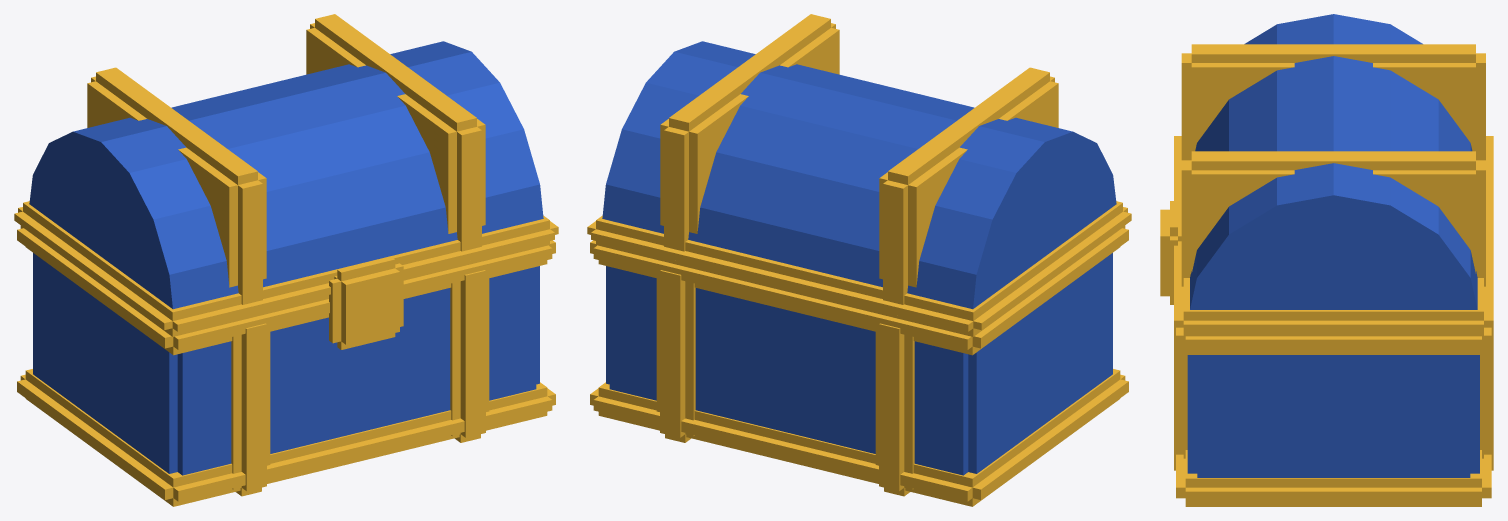
File: gacha-chest-v2.glb
The picture shows the model from 3 angles, left to right: view 1: azimuth 30°, elevation 25°; view 2: azimuth 150°, elevation 25°; view 3: azimuth 270°, elevation 25°; orthographic projection.
Visible parts, largest first — view 1: Chest_Lid, Chest_Body, Chest_BaseRim, Lid_Rim, Lid_TopArchR, Lid_TopArchL, Chest_MidRim, Chest_StrapR, Chest_StrapL, Chest_LockPlate; view 2: Chest_Lid, Chest_Body, Lid_Rim, Chest_BaseRim, Lid_TopArchL, Lid_TopArchR, Chest_MidRim, Chest_StrapR, Chest_StrapL; view 3: Chest_Lid, Chest_Body, Lid_TopArchR, Lid_TopArchL, Lid_Rim, Chest_BaseRim, Chest_MidRim, Chest_StrapR, Chest_LockPlate.
Boxes of the visible parts, left/top/right/bottom form: Chest_Lid: left=29, top=41, right=543, bottom=309; Chest_Body: left=33, top=253, right=539, bottom=475; Chest_BaseRim: left=17, top=369, right=555, bottom=506; Lid_Rim: left=14, top=201, right=558, bottom=336; Lid_TopArchR: left=306, top=14, right=485, bottom=251; Lid_TopArchL: left=87, top=67, right=266, bottom=304; Chest_MidRim: left=17, top=225, right=555, bottom=355; Chest_StrapR: left=450, top=258, right=489, bottom=442; Chest_StrapL: left=231, top=312, right=270, bottom=496; Chest_LockPlate: left=329, top=256, right=403, bottom=349; Chest_Lid: left=602, top=41, right=1116, bottom=309; Chest_Body: left=606, top=253, right=1112, bottom=475; Lid_Rim: left=587, top=201, right=1131, bottom=336; Chest_BaseRim: left=590, top=369, right=1128, bottom=506; Lid_TopArchL: left=879, top=67, right=1058, bottom=304; Lid_TopArchR: left=660, top=14, right=839, bottom=251; Chest_MidRim: left=590, top=225, right=1128, bottom=355; Chest_StrapR: left=656, top=258, right=695, bottom=442; Chest_StrapL: left=875, top=312, right=914, bottom=496; Chest_Lid: left=1190, top=14, right=1477, bottom=309; Chest_Body: left=1187, top=355, right=1479, bottom=477; Lid_TopArchR: left=1181, top=151, right=1485, bottom=286; Lid_TopArchL: left=1181, top=44, right=1485, bottom=160; Lid_Rim: left=1174, top=136, right=1493, bottom=336; Chest_BaseRim: left=1176, top=450, right=1491, bottom=506; Chest_MidRim: left=1176, top=327, right=1491, bottom=354; Chest_StrapR: left=1174, top=327, right=1493, bottom=470; Chest_LockPlate: left=1160, top=201, right=1181, bottom=304.
Bounding box in the file's own units: 2.34 × 1.8 × 1.71.
